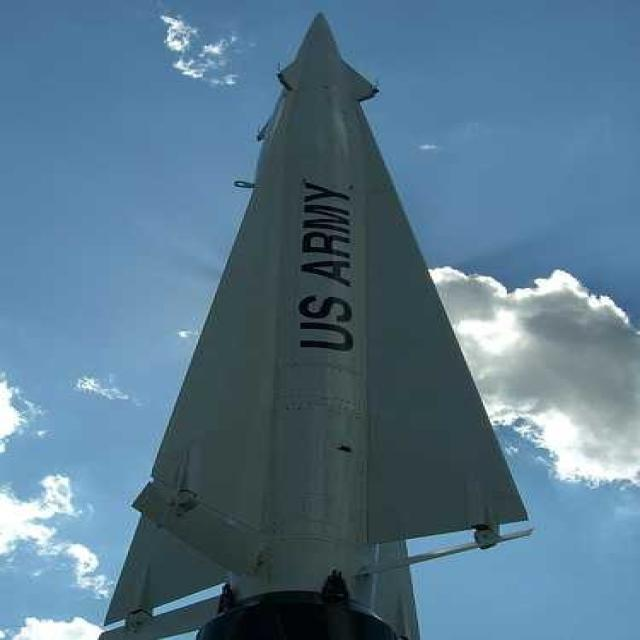missile: (115, 10, 533, 640)
